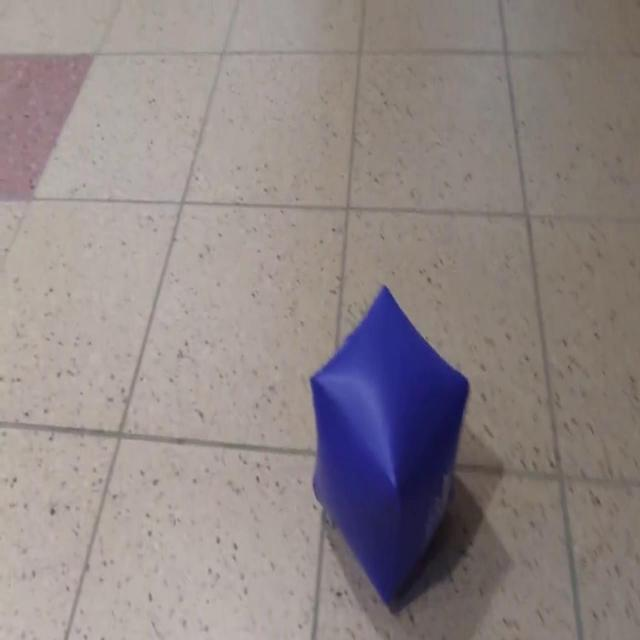frc_cube: (306, 286, 466, 601)
